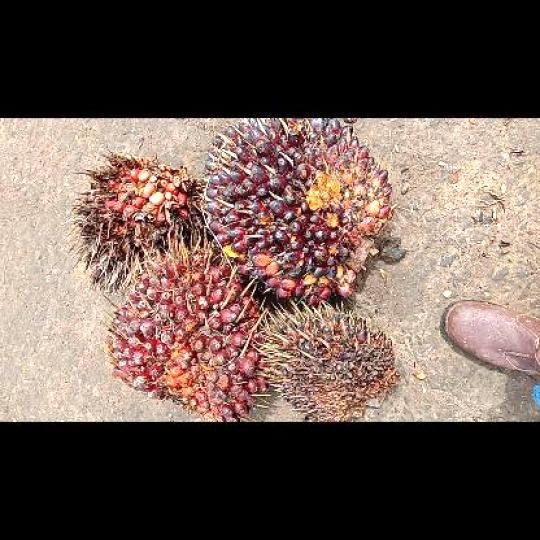kurang masak: (199, 118, 398, 310)
masak: (103, 249, 268, 421)
terlalu masak: (62, 149, 208, 292)
